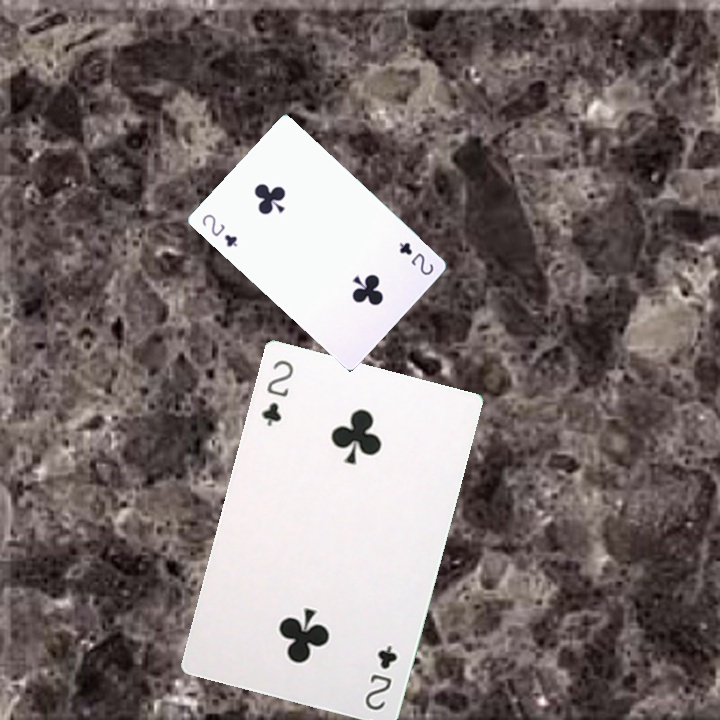2c: (257, 356, 296, 429), (361, 640, 400, 713), (198, 210, 240, 250), (395, 238, 436, 278)
